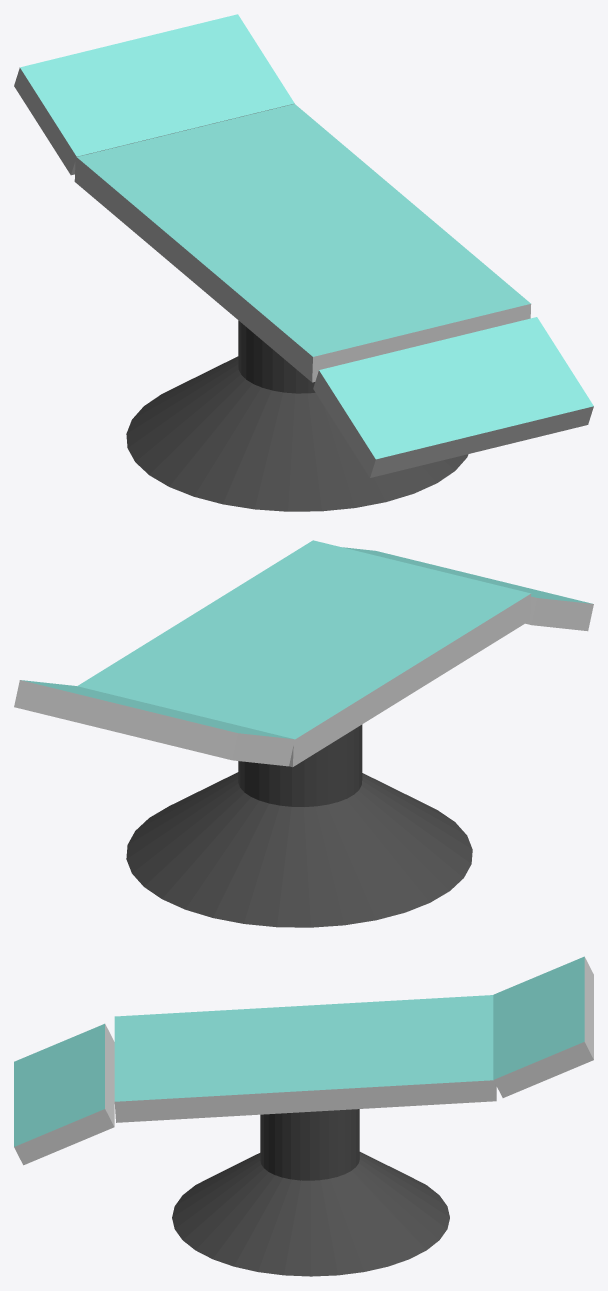
File: bed.fbx
3 views of the same model, one above another, from view 1: azimuth 30°, elevation 25°; view 2: azimuth 150°, elevation 25°; view 3: azimuth 270°, elevation 25° (orthographic). The views are drawn at different scales.
Parts seen in each view (by area): view 1: 立方体.005; view 2: 立方体.005; view 3: 立方体.005.
Part boxes in pixels (bbox=[...]): 立方体.005: bbox=[14, 14, 593, 511]; 立方体.005: bbox=[14, 540, 593, 927]; 立方体.005: bbox=[14, 956, 593, 1276].
Size of the model in its own units: 358 by 311 by 747.
